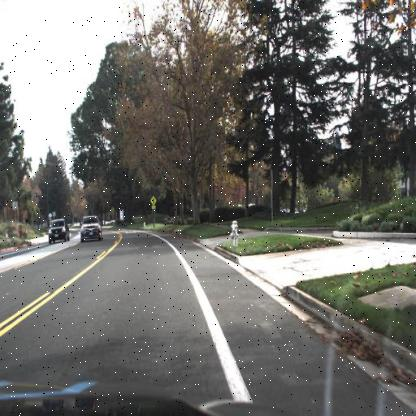car: (78, 213, 103, 245), (44, 216, 70, 244)
